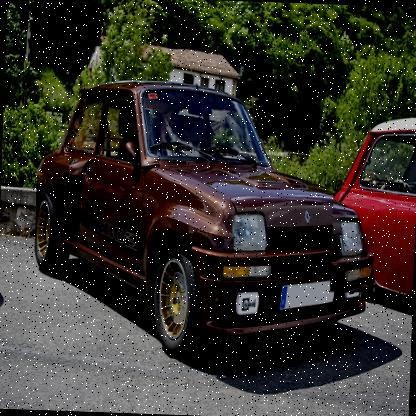Car: (31, 44, 378, 366), (329, 115, 415, 297)
